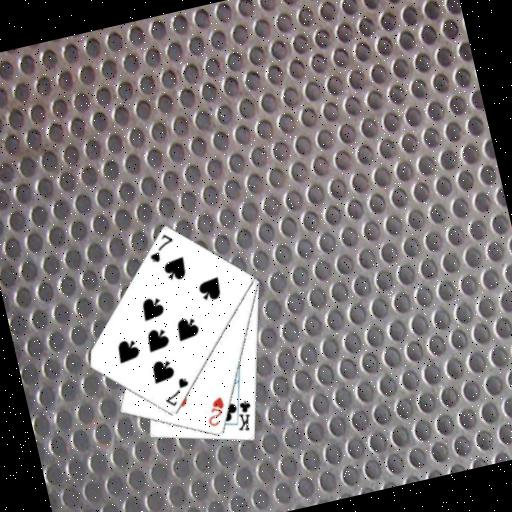2H: (200, 393, 230, 429)
7S: (158, 373, 195, 411), (142, 230, 179, 267)
KC: (227, 392, 258, 435)
